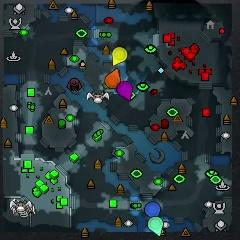p1: (144, 202, 161, 218)
p2: (148, 217, 163, 237)
p3: (117, 81, 133, 101)
p4: (113, 47, 127, 66)
p5: (105, 69, 121, 90)
